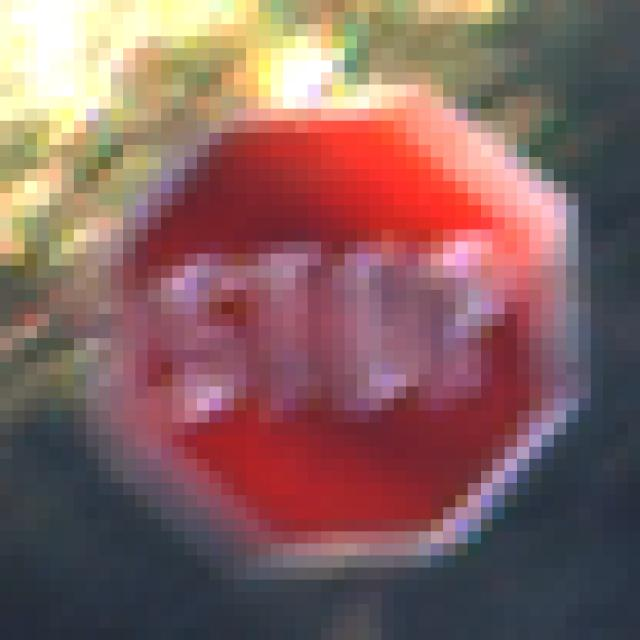STOP: (63, 74, 567, 569)
